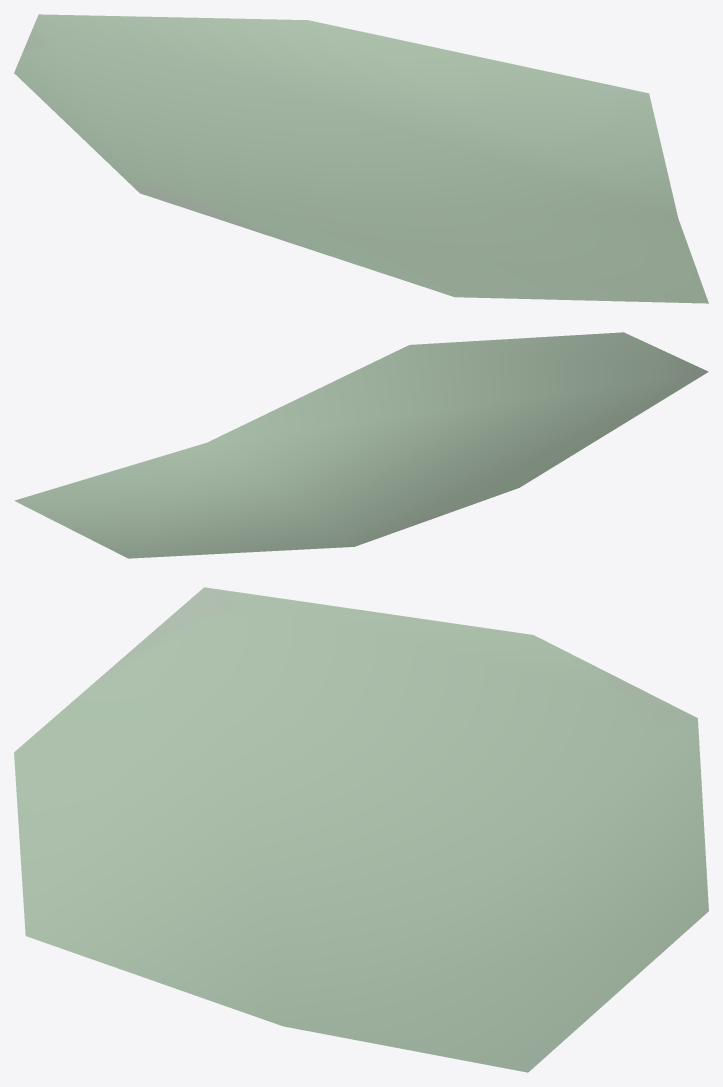
Rendered from TROLLHOLE02_HOLECAP101.fbx.
3 renders of one model, top to bottom at view 1: azimuth 30°, elevation 25°; view 2: azimuth 150°, elevation 25°; view 3: azimuth 270°, elevation 25°, orthographic. The views are drawn at different scales.
Parts seen in each view (by area): view 1: TROLLHOLE02_HOLECAP101; view 2: TROLLHOLE02_HOLECAP101; view 3: TROLLHOLE02_HOLECAP101.
Part boxes in pixels (x1,y1,x2,y2): TROLLHOLE02_HOLECAP101: (14,14,708,303); TROLLHOLE02_HOLECAP101: (14,332,708,558); TROLLHOLE02_HOLECAP101: (14,587,708,1072).
Size of the model in its own units: 23442 by 6470 by 22553.
Materials: 1 (1 with a texture image).
